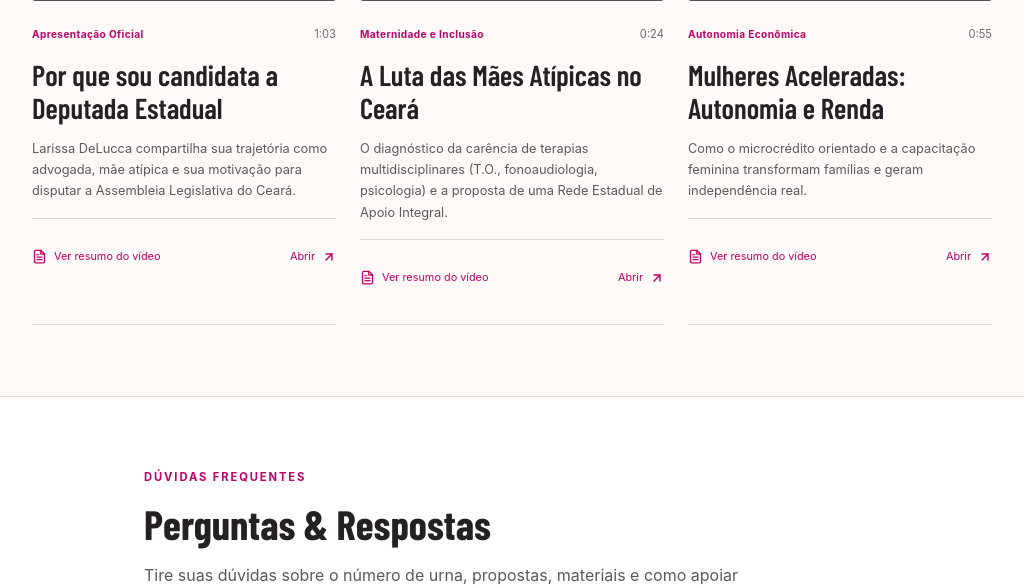
Test: HomePage — composição editorial › renders official videos section and toggles video summaries
The image size is (1024, 585).
(page scrolled)
Click first transcript button to toggle open
What coordinates should you click on to do the following:
click the button "Ver resumo do vídeo" below "1:03"
I would click on:
 (96, 257)
Its box is [32,235,160,279].
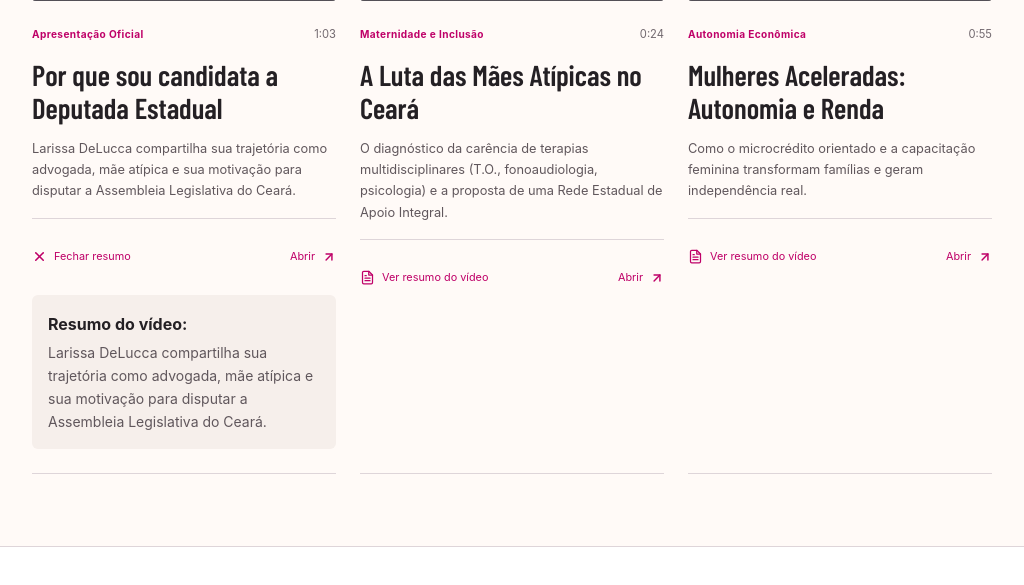
Expected: the text "Resumo do vídeo:" is shown, [48,314,187,334]
